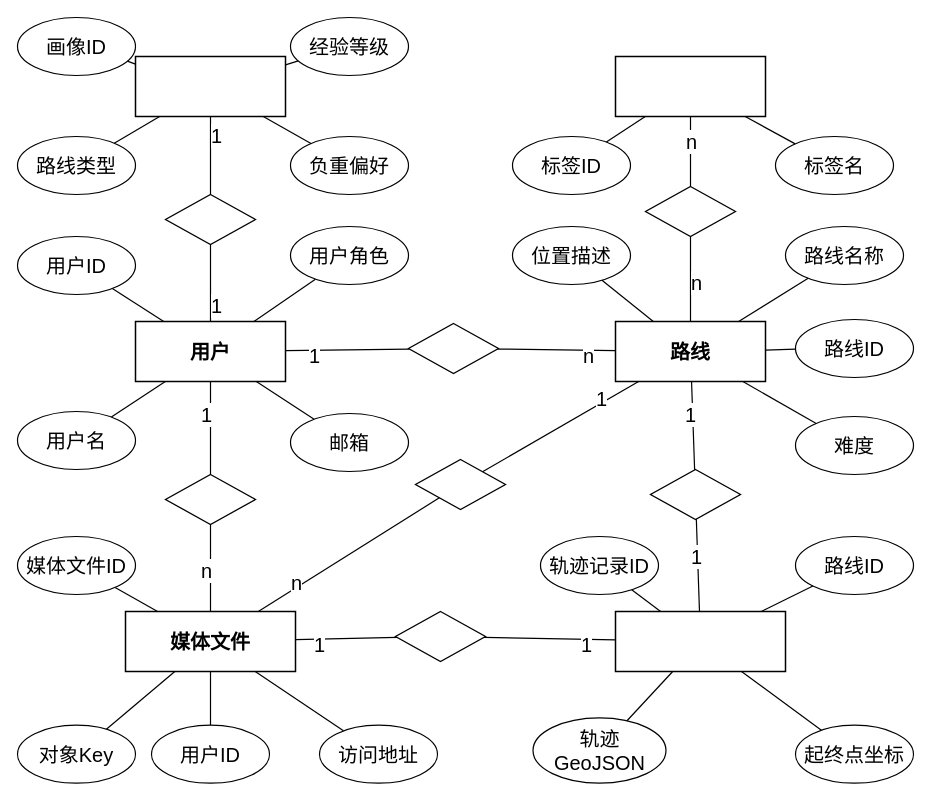
This 932x801 diagram has some shape labels left out. The centre of each missing label's shape, as x and y in pixels:
"上传" belongs at (210,499).
"使用" belongs at (460,484).
"关联" belongs at (440,636).
"包含" belongs at (695,494).
"发布" belongs at (453,348).
"标签" belongs at (690,86).
"标记" belongs at (690,211).
"用户徒步画像" belongs at (210,86).
"维护" belongs at (210,219).
"路线轨迹" belongs at (700,641).
